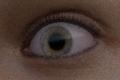eye: (41, 26, 72, 56)
